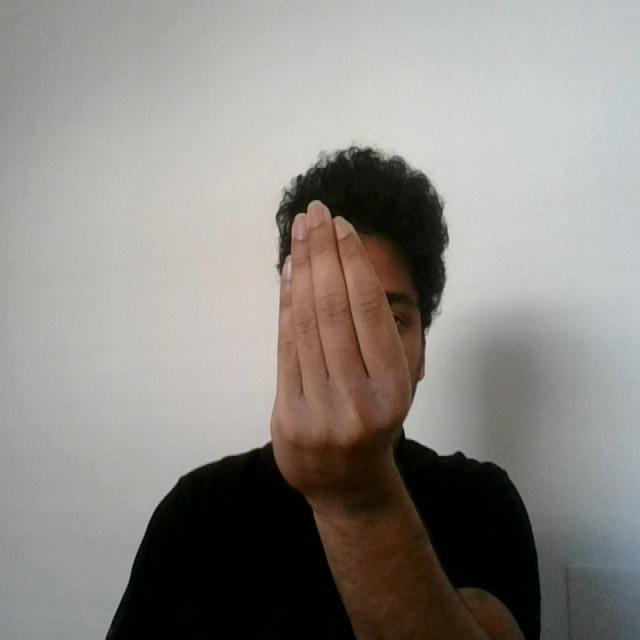Please: (261, 193, 425, 517)
